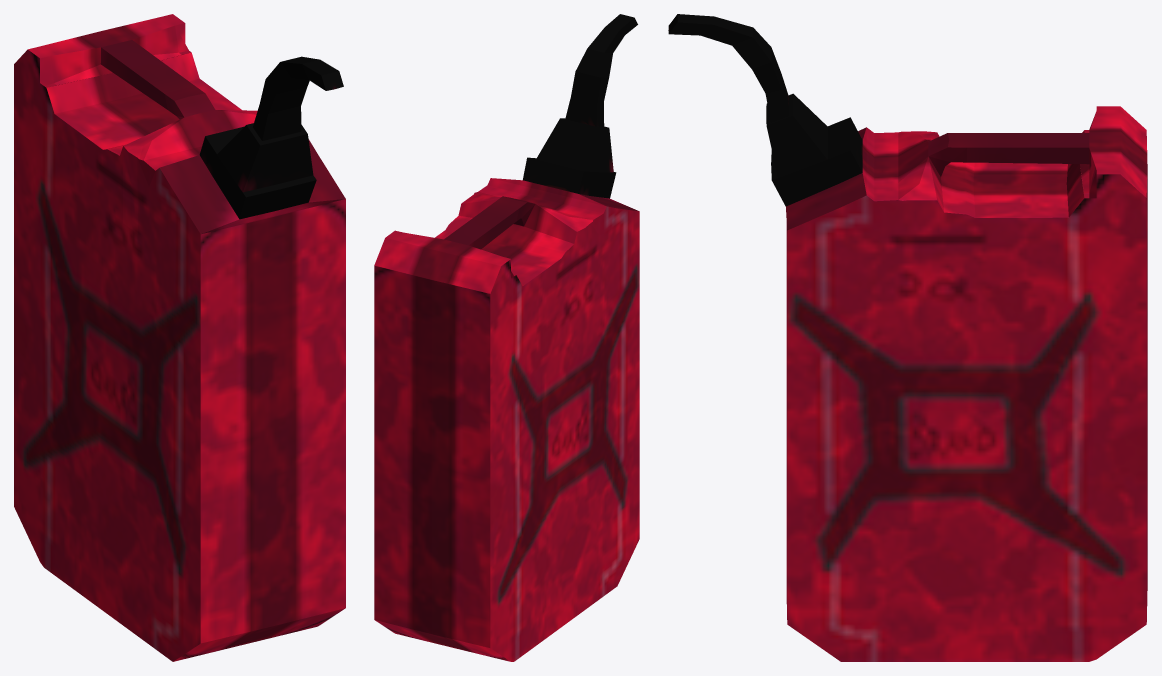
The model's file is Jerry Can 0.2.fbx.
The picture shows the model from 3 angles, left to right: view 1: azimuth 30°, elevation 25°; view 2: azimuth 150°, elevation 25°; view 3: azimuth 270°, elevation 25°; orthographic projection. The views are drawn at different scales.
Visible parts, largest first — view 1: Cube; view 2: Cube; view 3: Cube.
Part boxes in pixels (box(x1,y1,x2,y2)): Cube: box(14, 14, 345, 661); Cube: box(374, 14, 639, 661); Cube: box(668, 14, 1147, 661).
Bounding box in the file's own units: 77.39 × 315 × 225.
Materials: 1 (1 with a texture image).
